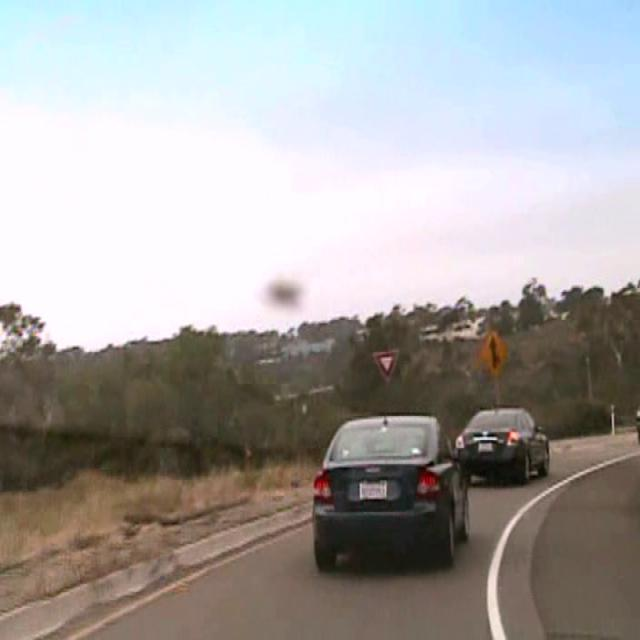yield: (370, 347, 399, 385)
